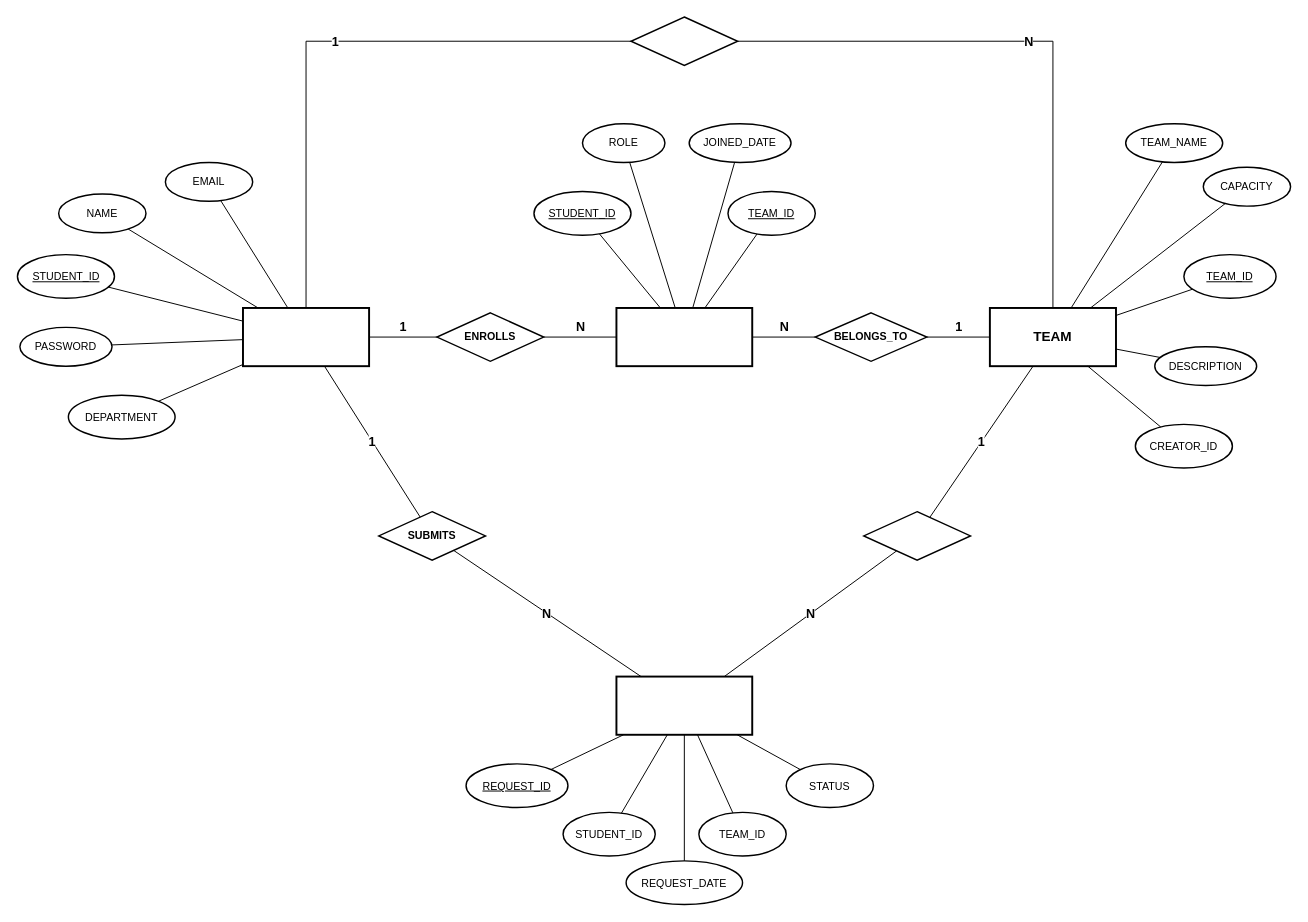
The diagram is 1308 pixels wide and 922 high, and some of its shapes have lost their labels. The centre of each missing label's shape, as x and y in pixels:
"CREATES" belongs at (x=684, y=41).
"JOIN_REQUEST" belongs at (x=684, y=705).
"STUDENT" belongs at (x=306, y=337).
"TARGETS" belongs at (x=917, y=535).
"TEAM_MEMBER" belongs at (x=684, y=337).
